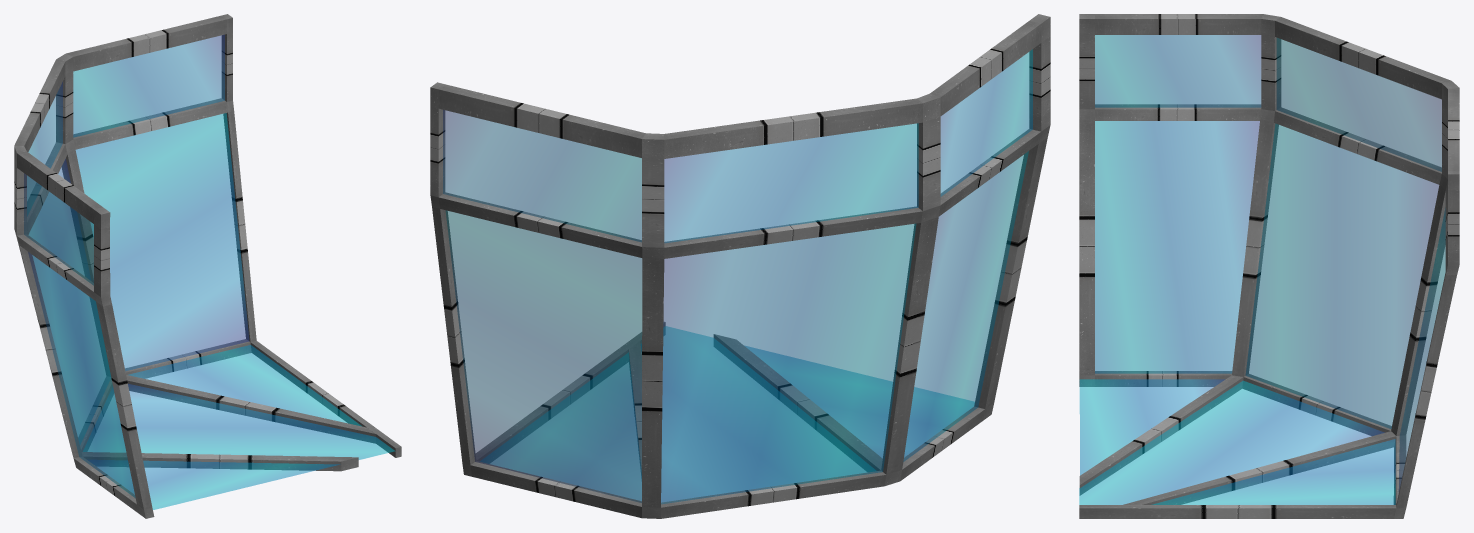
Rendered from Half_Dome_Left_01.FBX.
3 views of the same model, side by side, from view 1: azimuth 30°, elevation 25°; view 2: azimuth 150°, elevation 25°; view 3: azimuth 270°, elevation 25° (orthographic). The views are drawn at different scales.
Parts seen in each view (by area): view 1: Half_Dome_Left_01; view 2: Half_Dome_Left_01; view 3: Half_Dome_Left_01.
Boxes of the visible parts, <box> form: Half_Dome_Left_01: <box>14,14,401,518</box>; Half_Dome_Left_01: <box>430,14,1050,518</box>; Half_Dome_Left_01: <box>1079,14,1459,518</box>.
Size of the model in its own units: 140 by 140 by 140.
